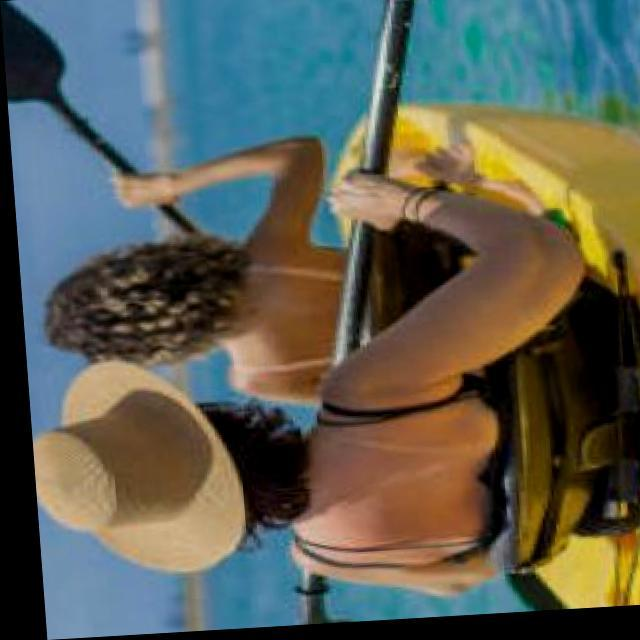kayak: (391, 109, 640, 617)
